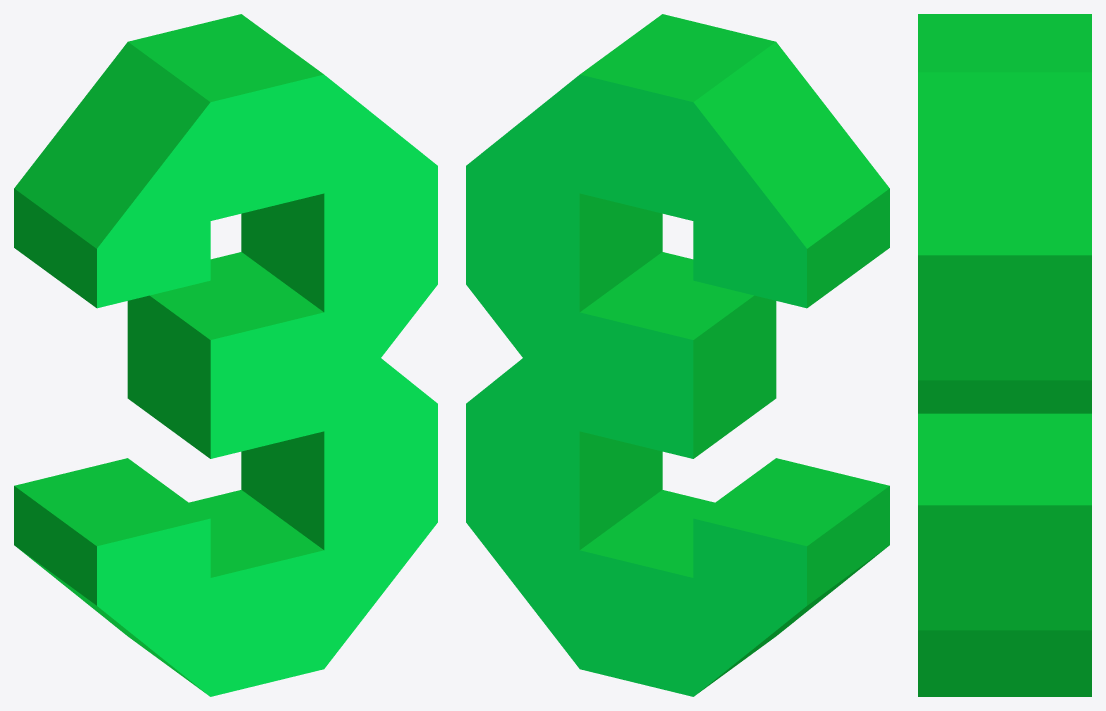
The picture shows the model from 3 angles, left to right: view 1: azimuth 30°, elevation 25°; view 2: azimuth 150°, elevation 25°; view 3: azimuth 270°, elevation 25°; orthographic projection. The views are drawn at different scales.
Visible parts, largest first — view 1: 3_DeltaBlock_Green; view 2: 3_DeltaBlock_Green; view 3: 3_DeltaBlock_Green.
Boxes of the visible parts, x1,y1,x2,y2 form: 3_DeltaBlock_Green: (14, 14, 437, 696); 3_DeltaBlock_Green: (466, 14, 889, 696); 3_DeltaBlock_Green: (918, 14, 1091, 696).
Size of what is drawn, in the model's own units: 0.1071 by 0.1786 by 0.045.
2 materials, 2 textured.
